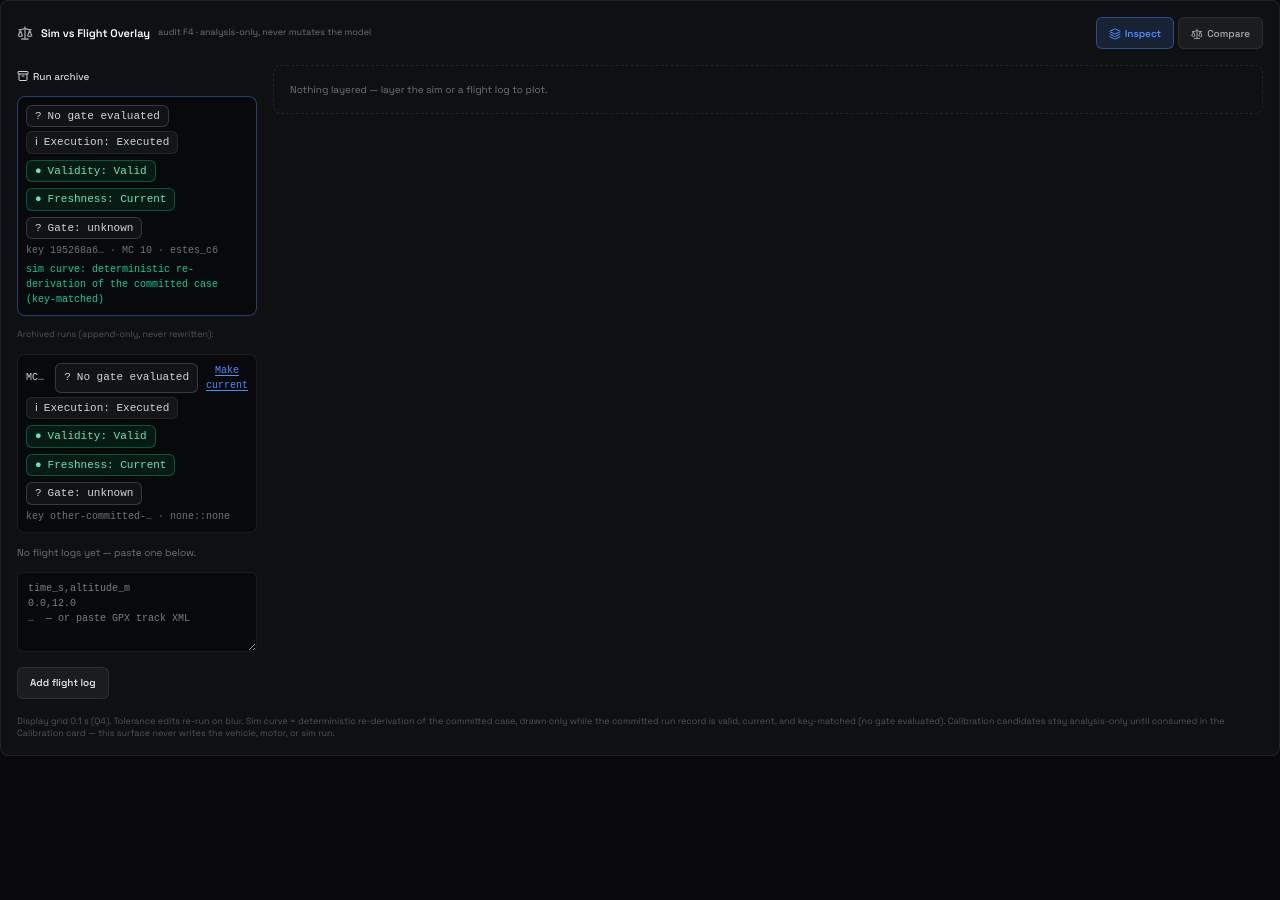
Test: SimFlightOverlay inspect pane › promotes a different committed run back to current from the archive
What coordinates should you click on to do the following:
click the button with aria-label "make mc 25 · estes_c6 current"
I would click on:
 (227, 378)
Its box is [206,362,248,392].
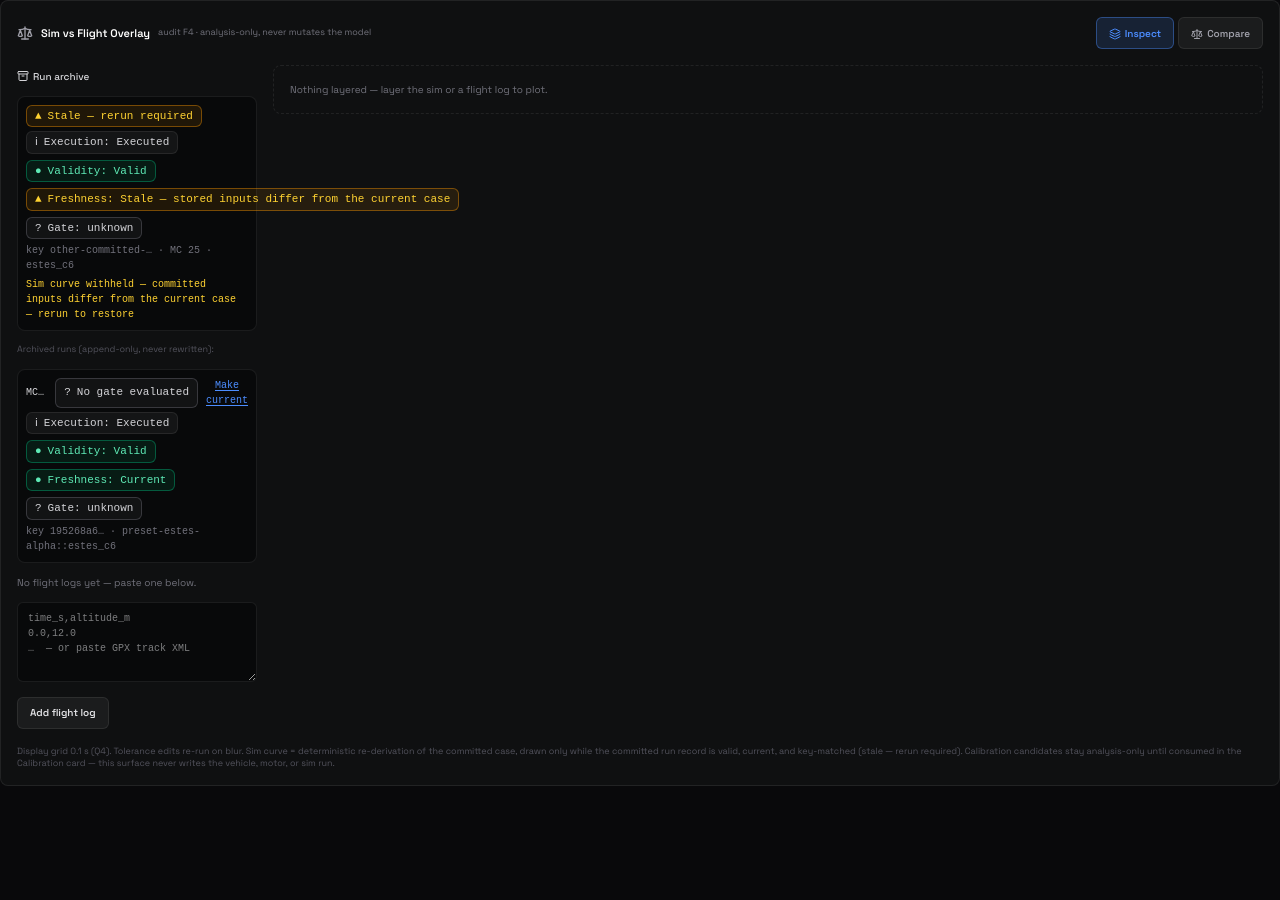
Check: the text "Stale — rerun required" is shown, box [48,108,193,124]
Check: the text "committed inputs differ from the current case" is shown, box [26,279,236,320]
Check: the button with aria-label "make mc 10 · estes_c6 current" is shown, box [206,378,248,408]
